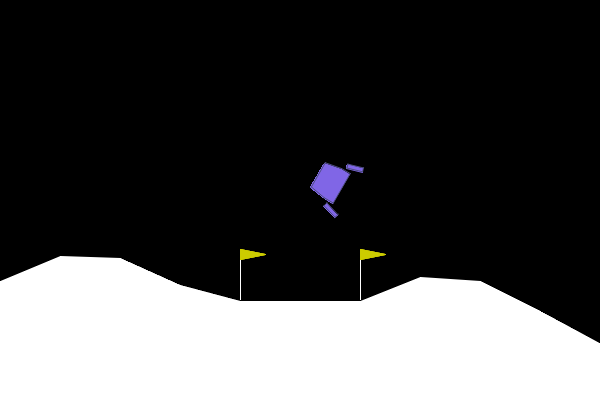lander: (301, 148, 366, 220)
